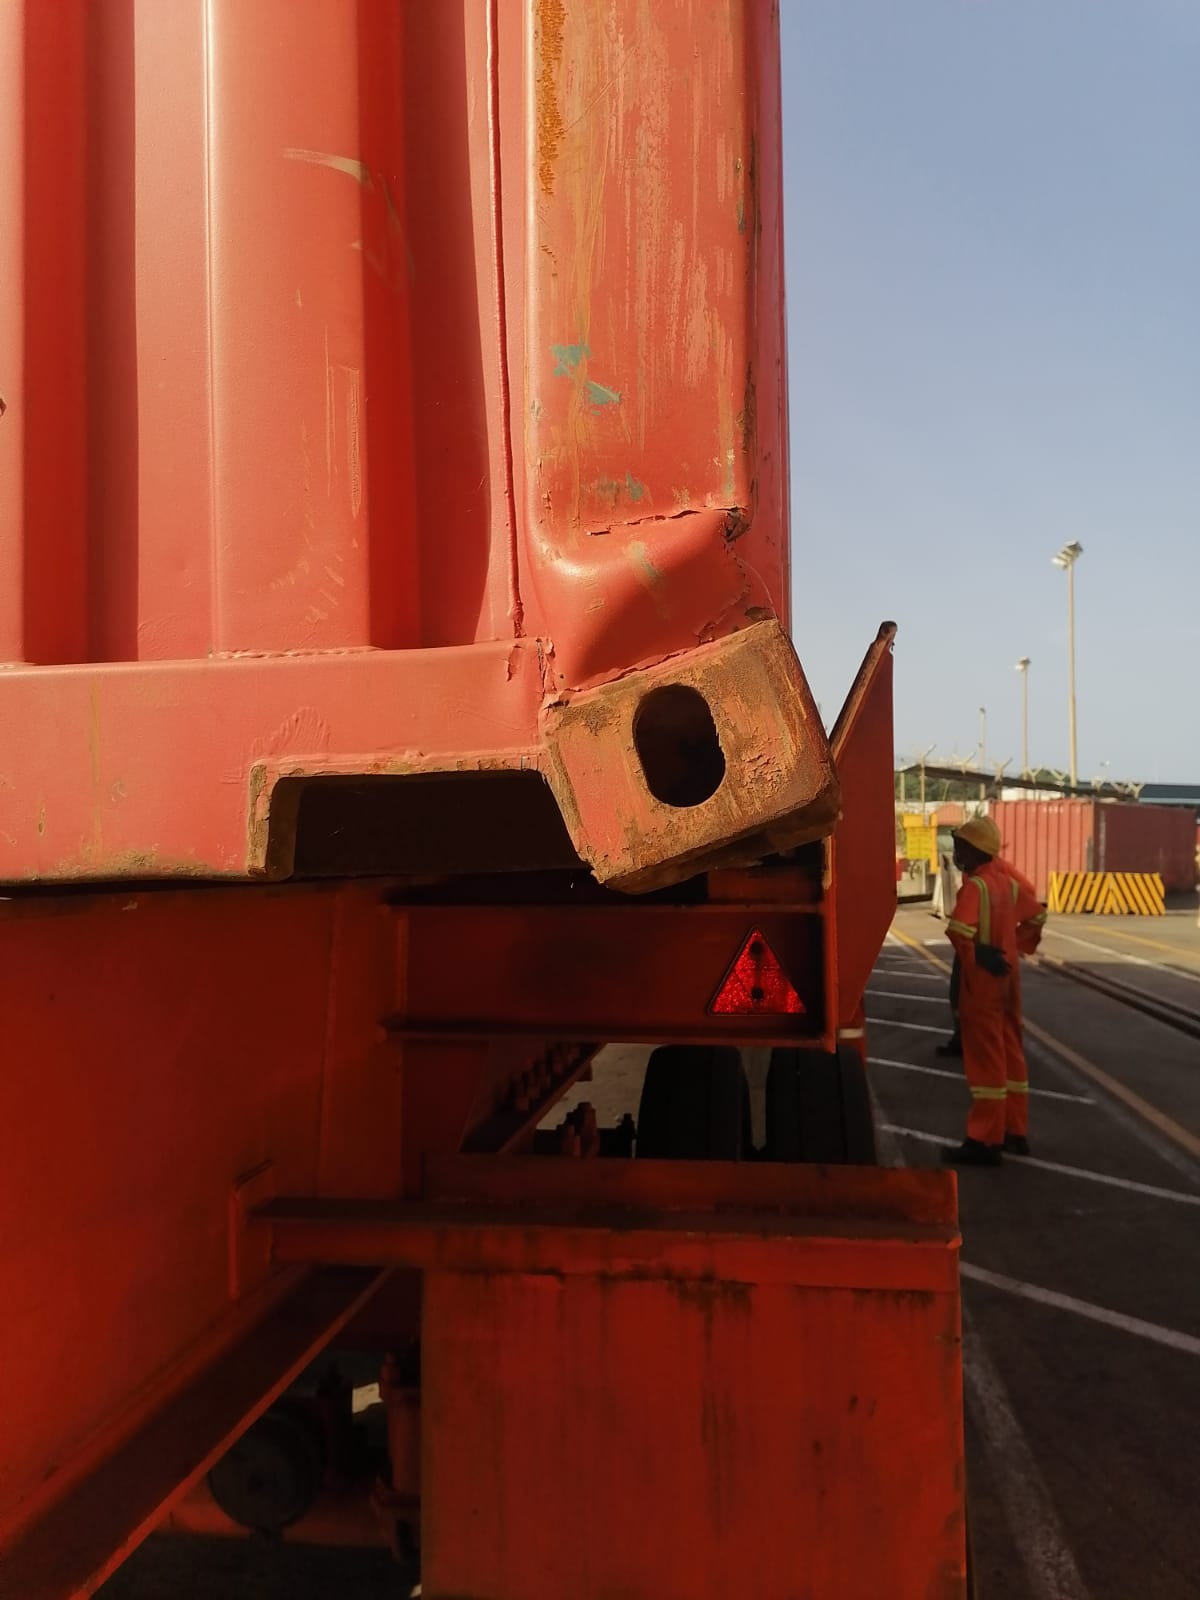moderate: (513, 476, 780, 782)
